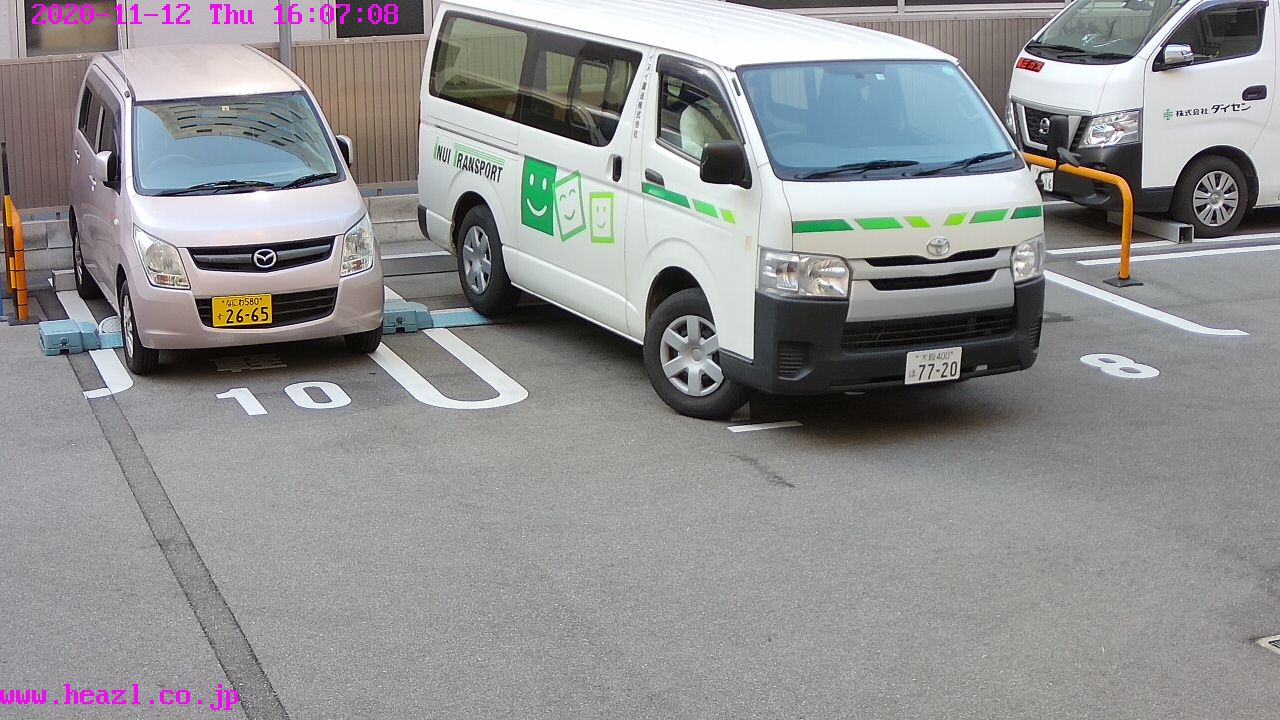number_plate: (210, 295, 271, 329), (906, 354, 963, 382)
